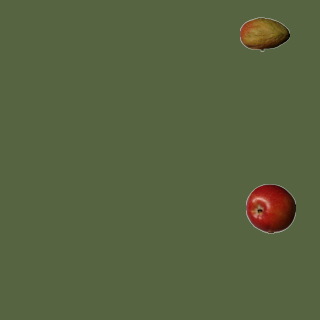Apple Braeburn: (245, 183, 295, 233)
Papaya: (239, 9, 289, 59)
